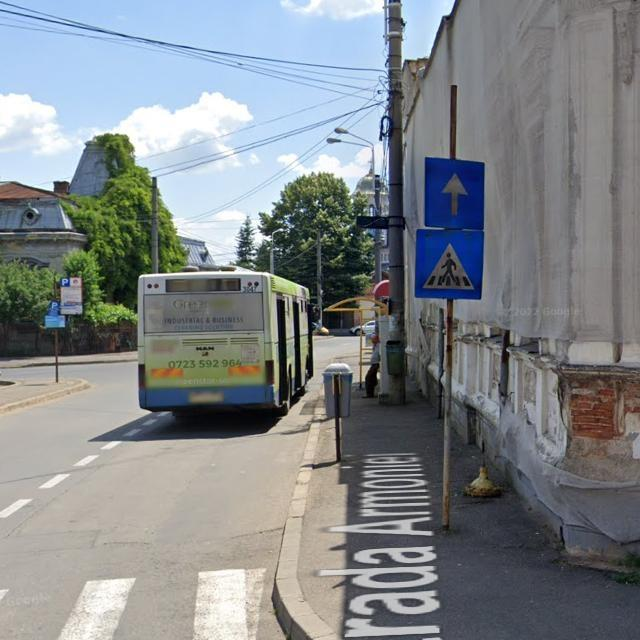info_crosswalk: (414, 224, 486, 301)
